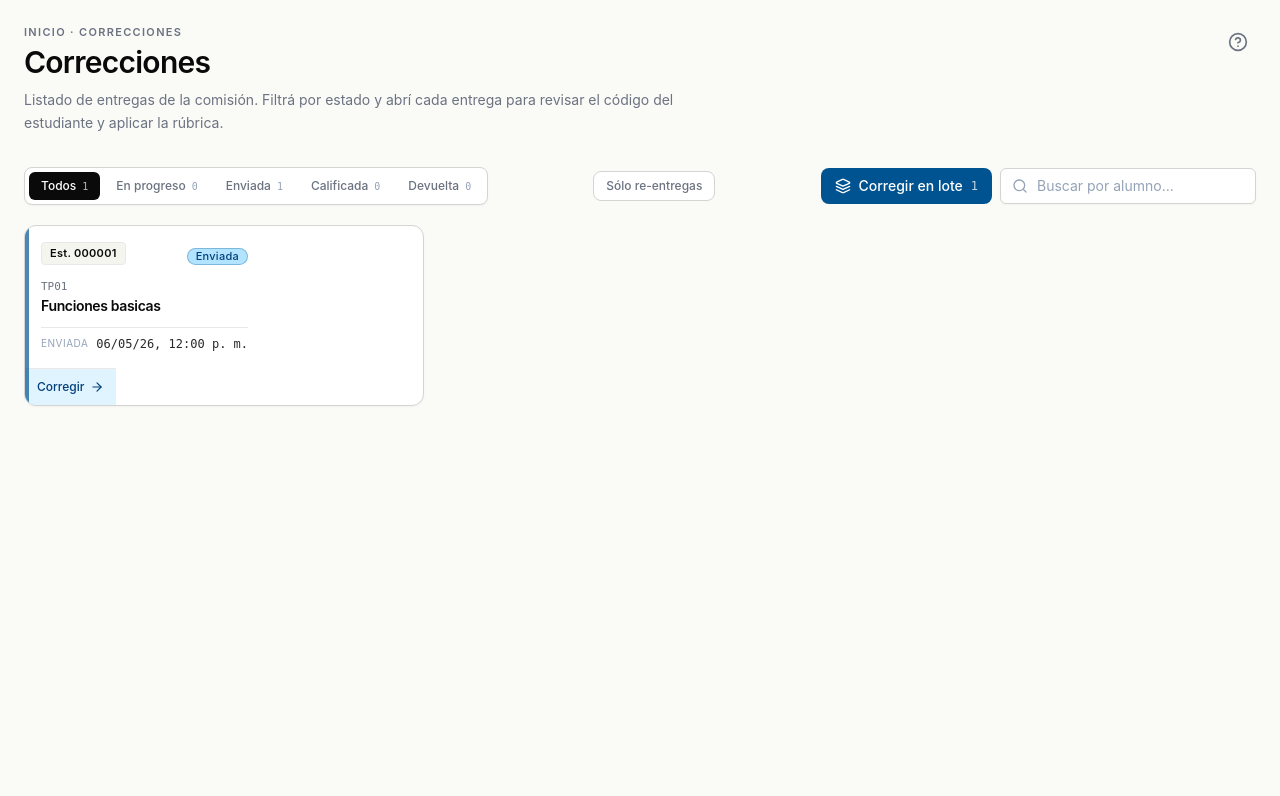
Scenario: CorreccionesView — codigo entregado vs reconstruido › muestra el codigo del artefacto entregado cuando los eventos del episodio estan vacios
The image size is (1280, 796).
Click the button with test id "entrega-drill-btn": {"x": 83, "y": 254} [24, 224, 424, 406]
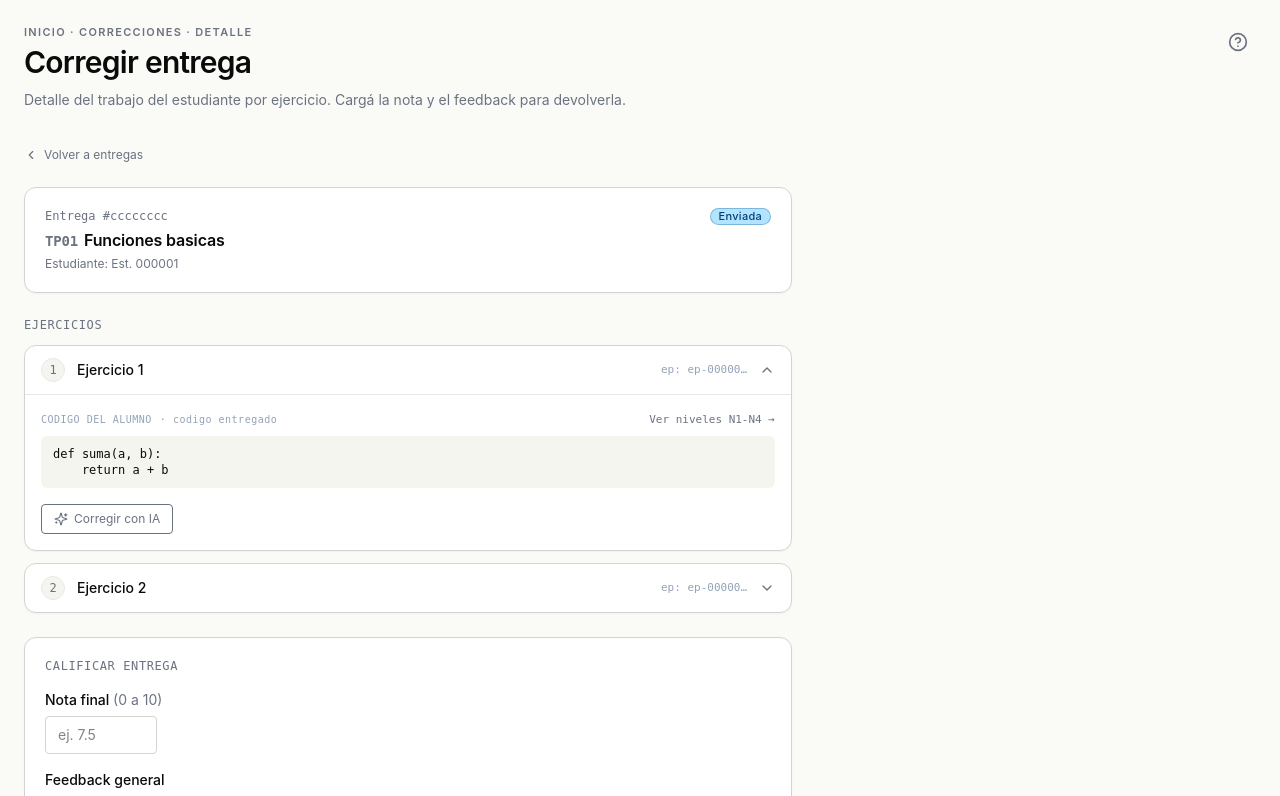
Result: the text "def suma(a, b): return a + b" is shown at [41, 436, 775, 488]
Result: the text with test id "codigo-origen-1" shows "entregado" at [160, 414, 277, 425]
